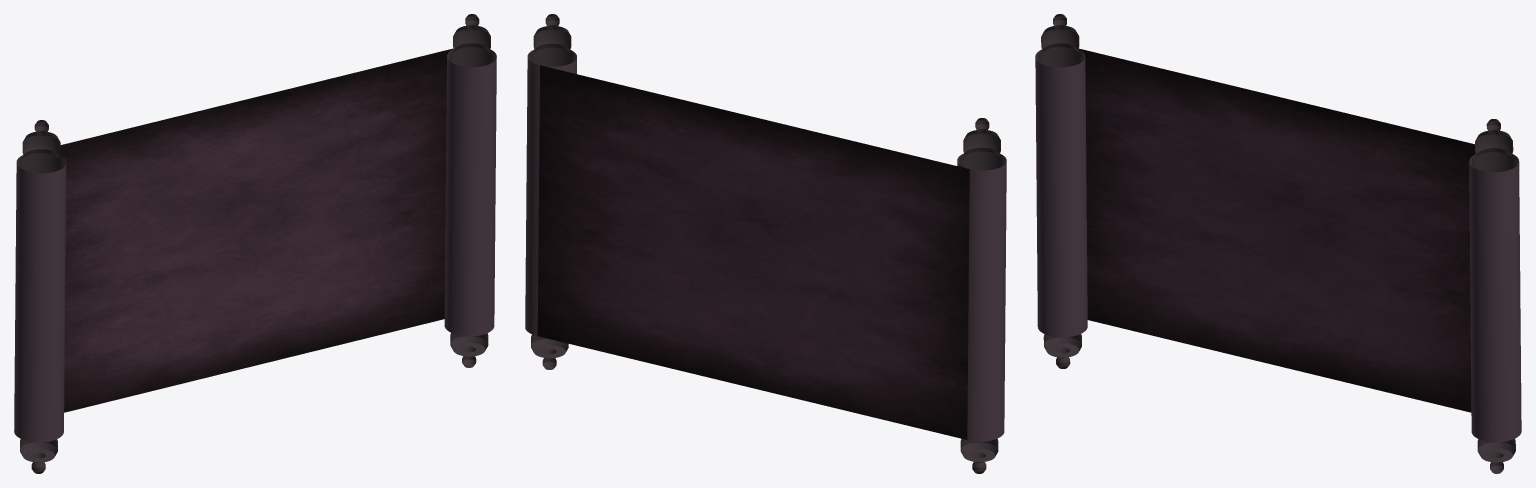
The model's file is SCROLLDUNJ.glb.
3 renders of one model, left to right at view 1: azimuth 30°, elevation 25°; view 2: azimuth 150°, elevation 25°; view 3: azimuth 330°, elevation 25°, orthographic.
Parts seen in each view (by area): view 1: Object_2, Object_5, Object_3, Object_4; view 2: Object_2, Object_5, Object_3, Object_4; view 3: Object_2, Object_5, Object_3, Object_4.
Boxes of the visible parts, bbox=[...] form: Object_2: bbox=[60, 48, 453, 412]; Object_5: bbox=[14, 49, 496, 442]; Object_3: bbox=[19, 14, 494, 455]; Object_4: bbox=[22, 448, 54, 473]; Object_2: bbox=[537, 65, 969, 439]; Object_5: bbox=[525, 49, 1006, 441]; Object_3: bbox=[530, 14, 1004, 455]; Object_4: bbox=[963, 449, 995, 473]; Object_2: bbox=[1079, 48, 1475, 412]; Object_5: bbox=[1035, 49, 1521, 442]; Object_3: bbox=[1037, 14, 1516, 473]; Object_4: bbox=[1046, 343, 1079, 368].
Size of the model in its own units: 11 by 7.81 by 1.14.
3 materials, 1 textured.
